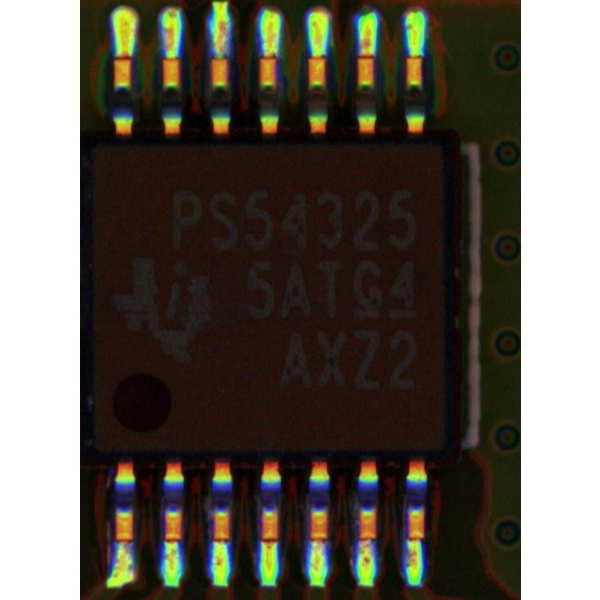Bad_podu: (358, 40, 371, 71), (261, 41, 273, 73), (117, 43, 129, 70), (262, 528, 273, 556)
